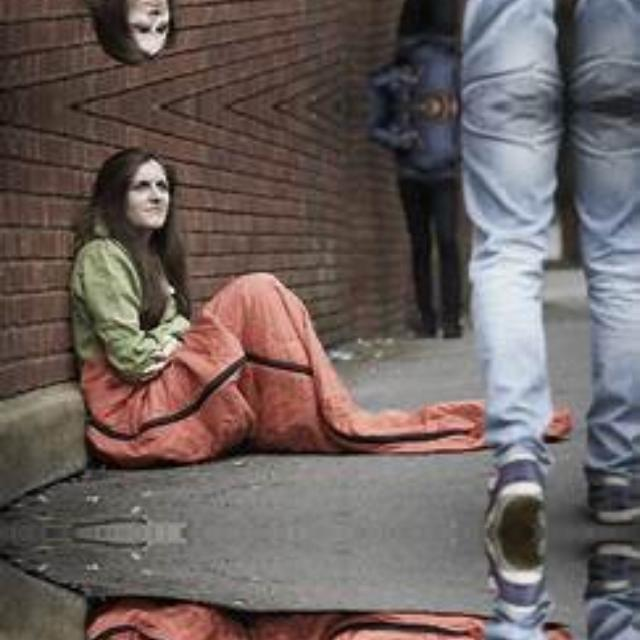person: (80, 146, 310, 430), (80, 0, 309, 66), (80, 634, 309, 640)
